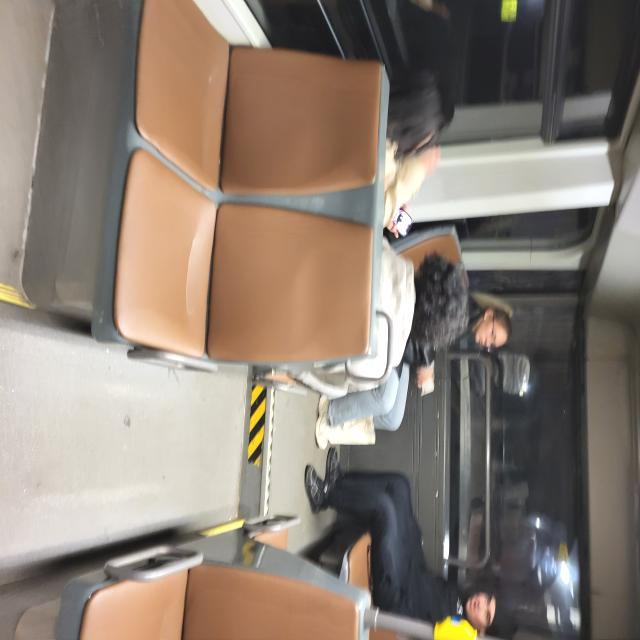asiento-libre: (279, 357, 439, 640), (160, 345, 306, 640), (580, 377, 640, 640)
